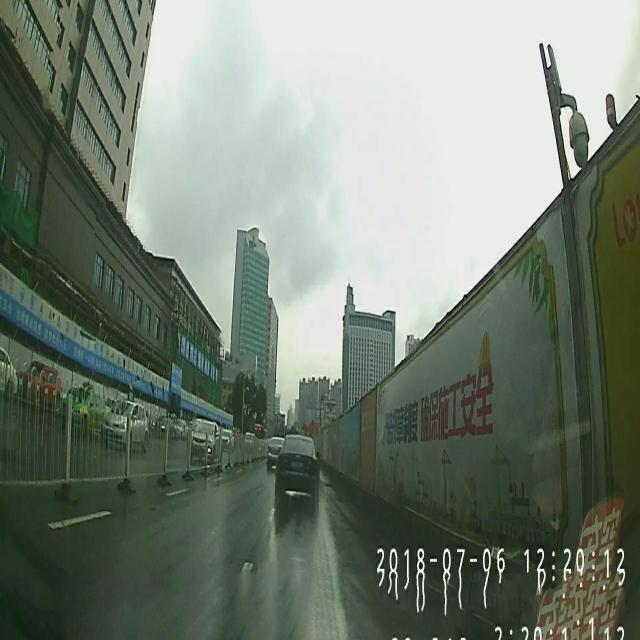car: (275, 433, 318, 497), (102, 397, 148, 450), (187, 418, 222, 466), (265, 438, 284, 468)
